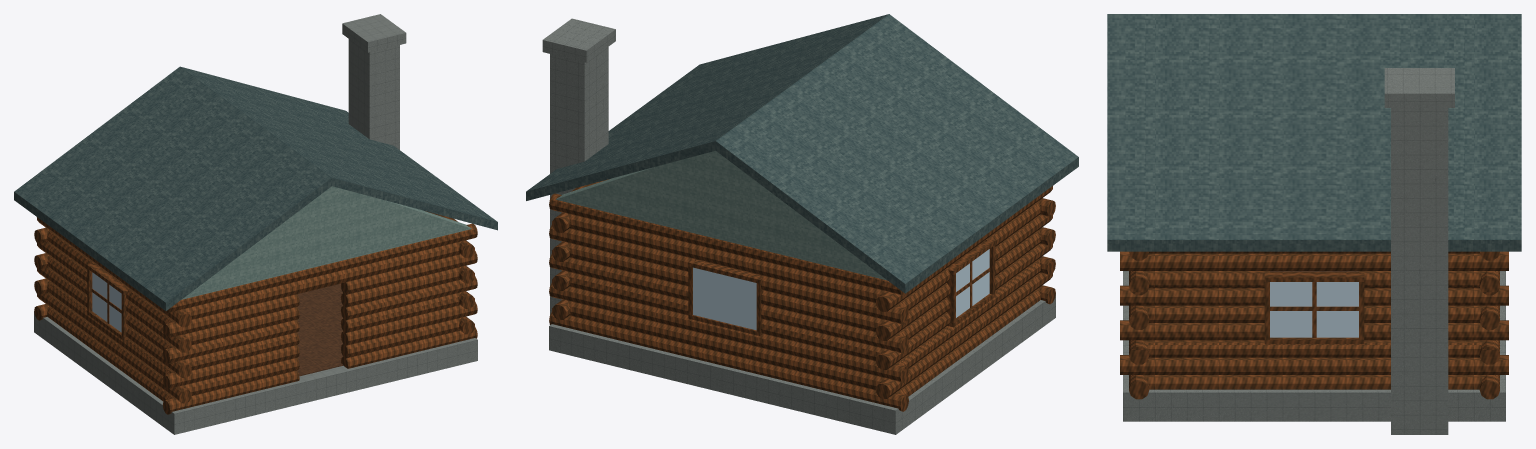
File: log_cabin.fbx
3 views of the same model, side by side, from view 1: azimuth 30°, elevation 25°; view 2: azimuth 150°, elevation 25°; view 3: azimuth 270°, elevation 25° (orthographic). The views are drawn at different scales.
Visible parts, largest first — view 1: LogCabinMesh; view 2: LogCabinMesh; view 3: LogCabinMesh.
Part boxes in pixels (x1,y1,x2,y2): LogCabinMesh: [14, 14, 497, 434]; LogCabinMesh: [526, 14, 1078, 434]; LogCabinMesh: [1107, 14, 1521, 434].
Bounding box in the file's own units: 21.46 × 16.51 × 15.11.
